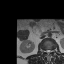CCS_normal: (47, 48, 49, 56)
LFS_stenosis: (51, 49, 53, 53)
LLS_normal: (49, 48, 51, 54)
RFS_stenosis: (43, 48, 45, 53)
RLS_normal: (45, 48, 47, 54)
